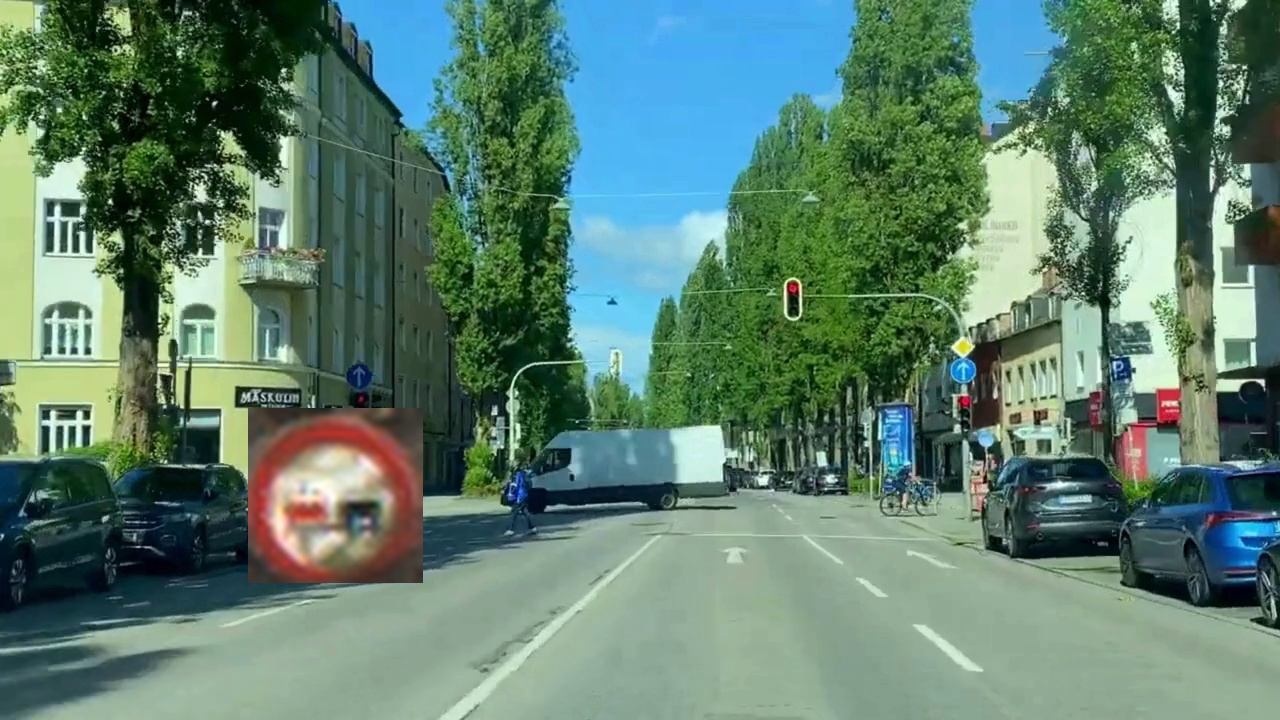No passing: (248, 408, 423, 583)
